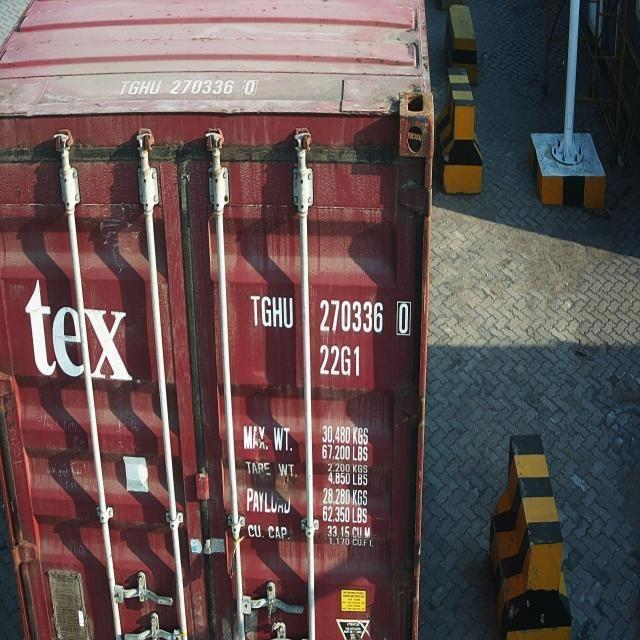box: (489, 434, 573, 640)
